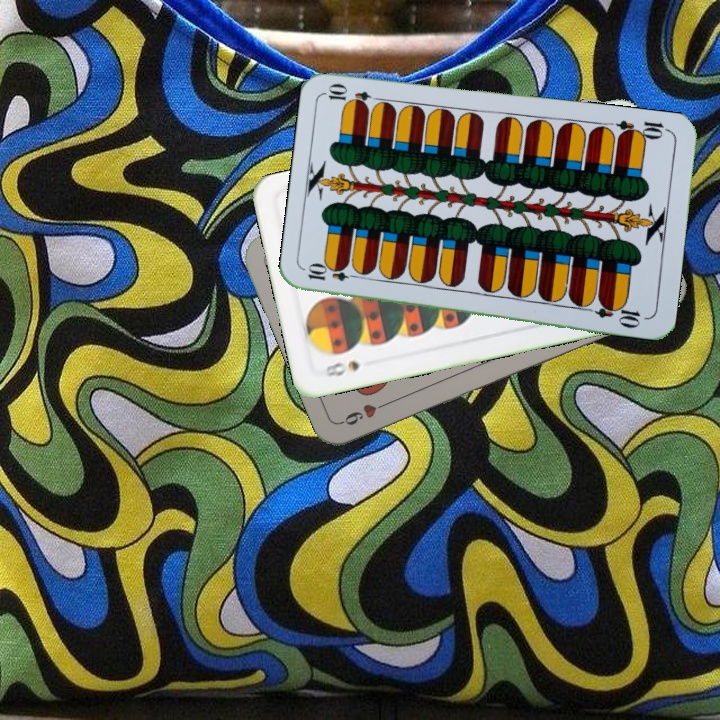E10: (613, 116, 672, 143), (304, 263, 363, 284)
H9: (337, 397, 394, 428)
S8: (321, 356, 362, 379)
